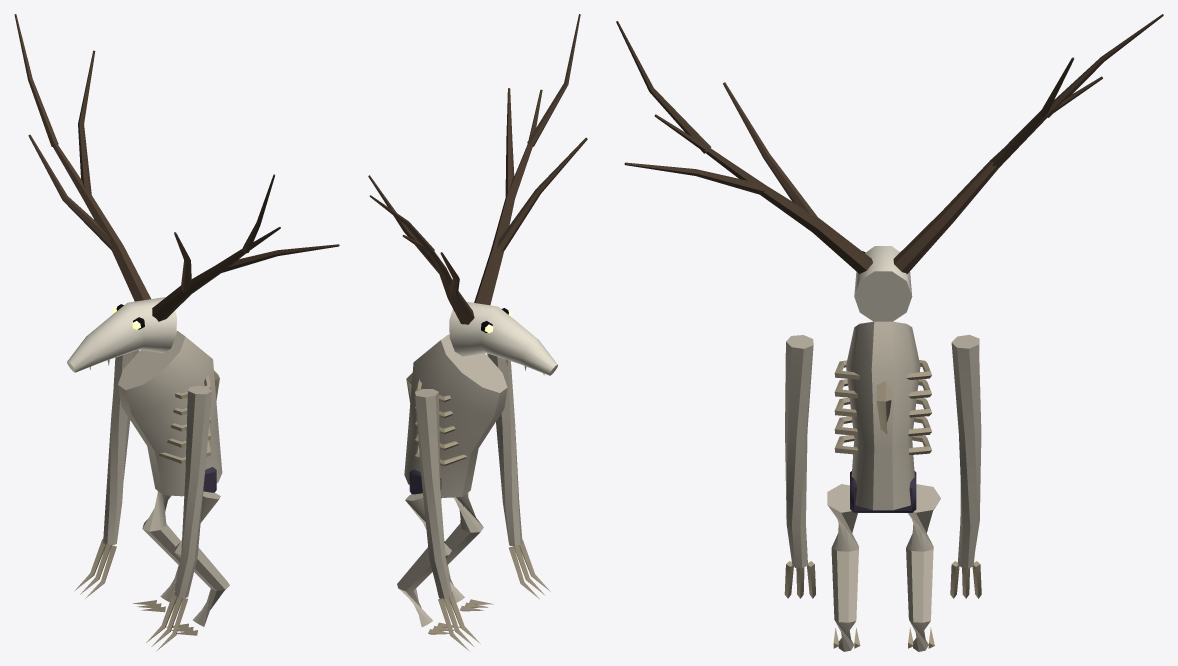
The model's file is m_wendigo.glb.
3 renders of one model, left to right at view 1: azimuth 30°, elevation 25°; view 2: azimuth 150°, elevation 25°; view 3: azimuth 270°, elevation 25°, orthographic. The views are drawn at different scales.
Parts seen in each view (by area): view 1: body, antlers, armL, head, armR, legL, legR; view 2: body, antlers, armR, head, armL, legR, legL; view 3: body, antlers, armL, armR, legL, legR, head.
Part boxes in pixels (box(x1,y1,x2,y2)): body: box(118, 331, 222, 496); antlers: box(14, 14, 339, 321); armL: box(146, 385, 211, 651); head: box(67, 297, 176, 372); armR: box(74, 350, 139, 598); legL: box(166, 491, 229, 635); legR: box(133, 491, 180, 612); body: box(404, 334, 507, 498); antlers: box(368, 14, 587, 324); armR: box(415, 389, 480, 651); head: box(449, 301, 557, 375); armL: box(487, 353, 550, 598); legR: box(397, 493, 460, 634); legL: box(445, 493, 493, 611); body: box(834, 321, 931, 512); antlers: box(616, 14, 1163, 273); armL: box(784, 335, 815, 598); armR: box(950, 334, 981, 598); legL: box(827, 484, 860, 651); legR: box(906, 484, 940, 651); head: box(854, 246, 912, 321).
Bounding box in the file's own units: 0.5171 × 1.65 × 1.32.
